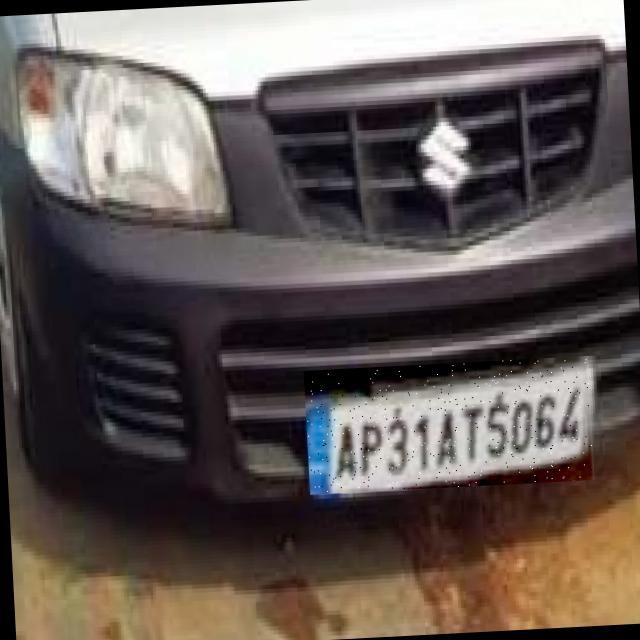Plate: (305, 357, 597, 496)
